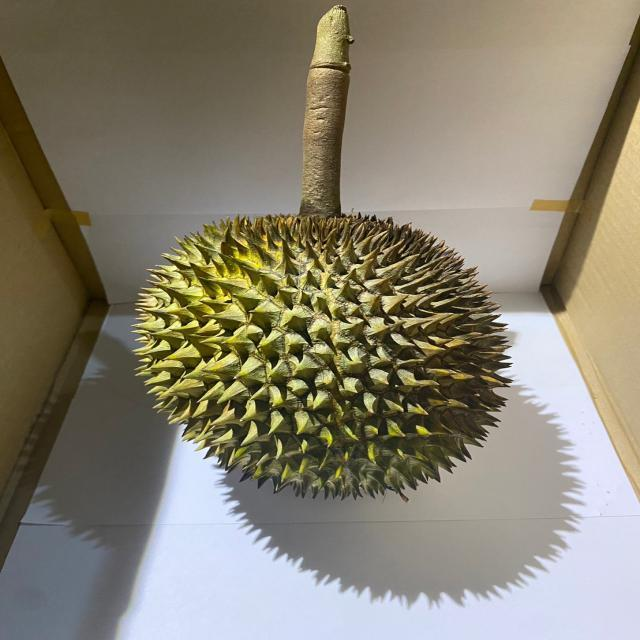immature: (135, 209, 511, 503)
